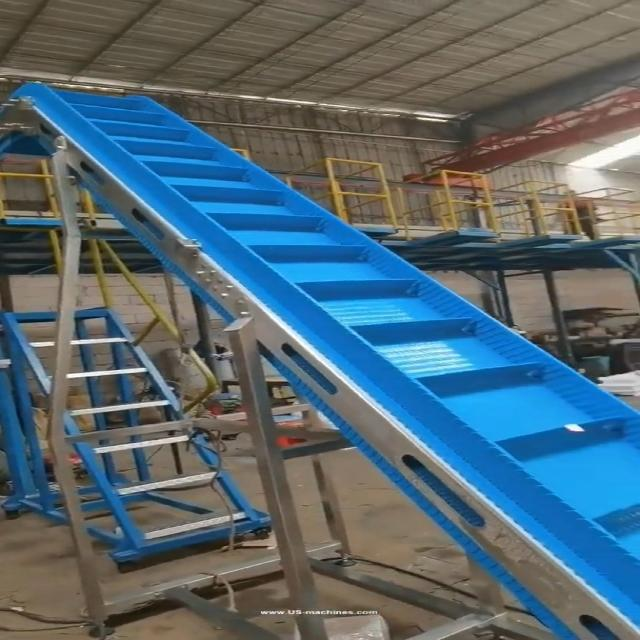Convoyeur: (4, 76, 640, 640)
